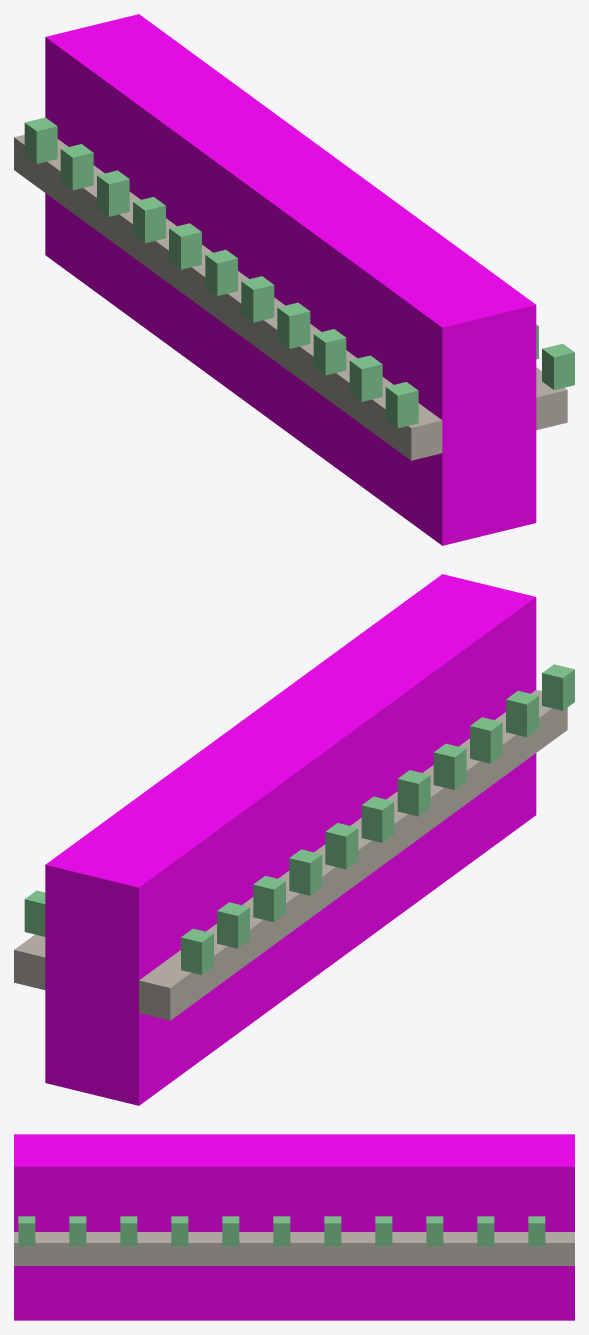
Rendered from sample.gltf.
3 renders of one model, top to bottom at view 1: azimuth 30°, elevation 25°; view 2: azimuth 150°, elevation 25°; view 3: azimuth 270°, elevation 25°, orthographic. The views are drawn at different scales.
Visible parts, largest first — view 1: BOUNDS, cliff_-1_-2, tree_-1_-2, tree_-1_16, tree_-1_22, tree_-1_52, tree_-1_10, tree_-1_58, tree_-1_4, cliff_1_-2, tree_-1_34, tree_1_-2 (+13 smaller); view 2: BOUNDS, cliff_-1_58, cliff_1_58, tree_-1_16, tree_-1_22, tree_-1_34, tree_-1_40, tree_-1_28, tree_-1_4, tree_-1_46, tree_-1_52, tree_-1_-2 (+13 smaller); view 3: BOUNDS, cliff_1_-2, cliff_1_4, cliff_1_10, cliff_1_16, cliff_1_22, cliff_1_28, cliff_1_34, cliff_1_40, cliff_1_46, cliff_1_52, cliff_1_58 (+11 smaller).
Part boxes in pixels (left/top/right/bottom): BOUNDS: left=45, top=14, right=536, bottom=545; cliff_-1_-2: left=375, top=399, right=442, bottom=460; tree_-1_-2: left=385, top=382, right=418, bottom=428; tree_-1_16: left=277, top=302, right=310, bottom=348; tree_-1_22: left=241, top=276, right=274, bottom=322; tree_-1_52: left=60, top=144, right=93, bottom=190; tree_-1_10: left=313, top=329, right=346, bottom=375; tree_-1_58: left=24, top=117, right=57, bottom=163; tree_-1_4: left=349, top=355, right=382, bottom=401; cliff_1_-2: left=536, top=367, right=567, bottom=430; tree_-1_34: left=169, top=223, right=201, bottom=269; tree_1_-2: left=542, top=343, right=574, bottom=390; BOUNDS: left=45, top=574, right=536, bottom=1105; cliff_-1_58: left=139, top=954, right=206, bottom=1020; cliff_1_58: left=14, top=934, right=45, bottom=989; tree_-1_16: left=433, top=743, right=466, bottom=789; tree_-1_22: left=397, top=770, right=430, bottom=816; tree_-1_34: left=325, top=823, right=358, bottom=869; tree_-1_40: left=289, top=849, right=322, bottom=895; tree_-1_28: left=361, top=796, right=394, bottom=842; tree_-1_4: left=506, top=690, right=538, bottom=737; tree_-1_46: left=253, top=875, right=285, bottom=922; tree_-1_52: left=217, top=902, right=249, bottom=948; tree_-1_-2: left=542, top=664, right=574, bottom=710; BOUNDS: left=14, top=1134, right=574, bottom=1320; cliff_1_-2: left=14, top=1232, right=64, bottom=1265; cliff_1_4: left=65, top=1232, right=115, bottom=1265; cliff_1_10: left=116, top=1232, right=166, bottom=1265; cliff_1_16: left=167, top=1232, right=217, bottom=1265; cliff_1_22: left=218, top=1232, right=268, bottom=1265; cliff_1_28: left=269, top=1232, right=319, bottom=1265; cliff_1_34: left=320, top=1232, right=370, bottom=1265; cliff_1_40: left=371, top=1232, right=421, bottom=1265; cliff_1_46: left=422, top=1232, right=472, bottom=1265; cliff_1_52: left=473, top=1232, right=523, bottom=1265; cliff_1_58: left=524, top=1232, right=574, bottom=1265.
Size of the model in its own units: 17 by 20 by 66.
